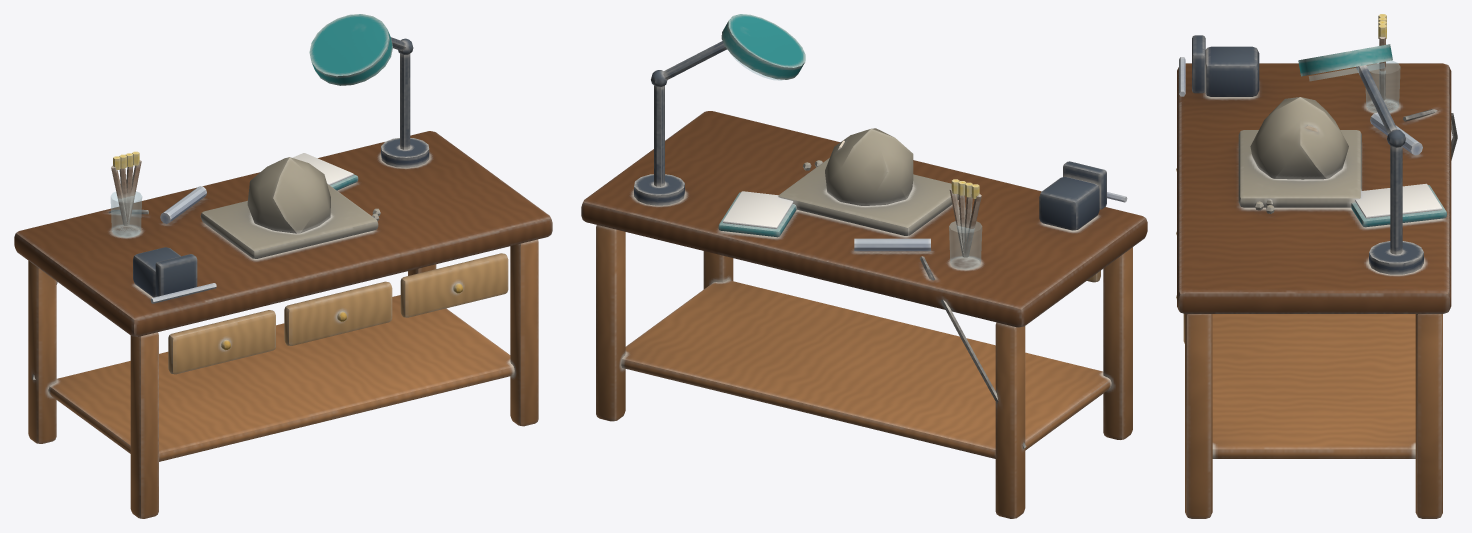
The model's file is workbench.glb.
3 renders of one model, left to right at view 1: azimuth 30°, elevation 25°; view 2: azimuth 150°, elevation 25°; view 3: azimuth 270°, elevation 25°, orthographic. The views are drawn at different scales.
Parts seen in each view (by area): view 1: SM_Workbench; view 2: SM_Workbench; view 3: SM_Workbench.
Boxes of the visible parts, x1=… form: SM_Workbench: x1=14, y1=14, x2=552, y2=518; SM_Workbench: x1=581, y1=14, x2=1147, y2=518; SM_Workbench: x1=1176, y1=14, x2=1457, y2=518.
Size of what is drawn, in the model's own units: 2 by 1.7 by 1.03.
Materials: 3 (1 with a texture image).
